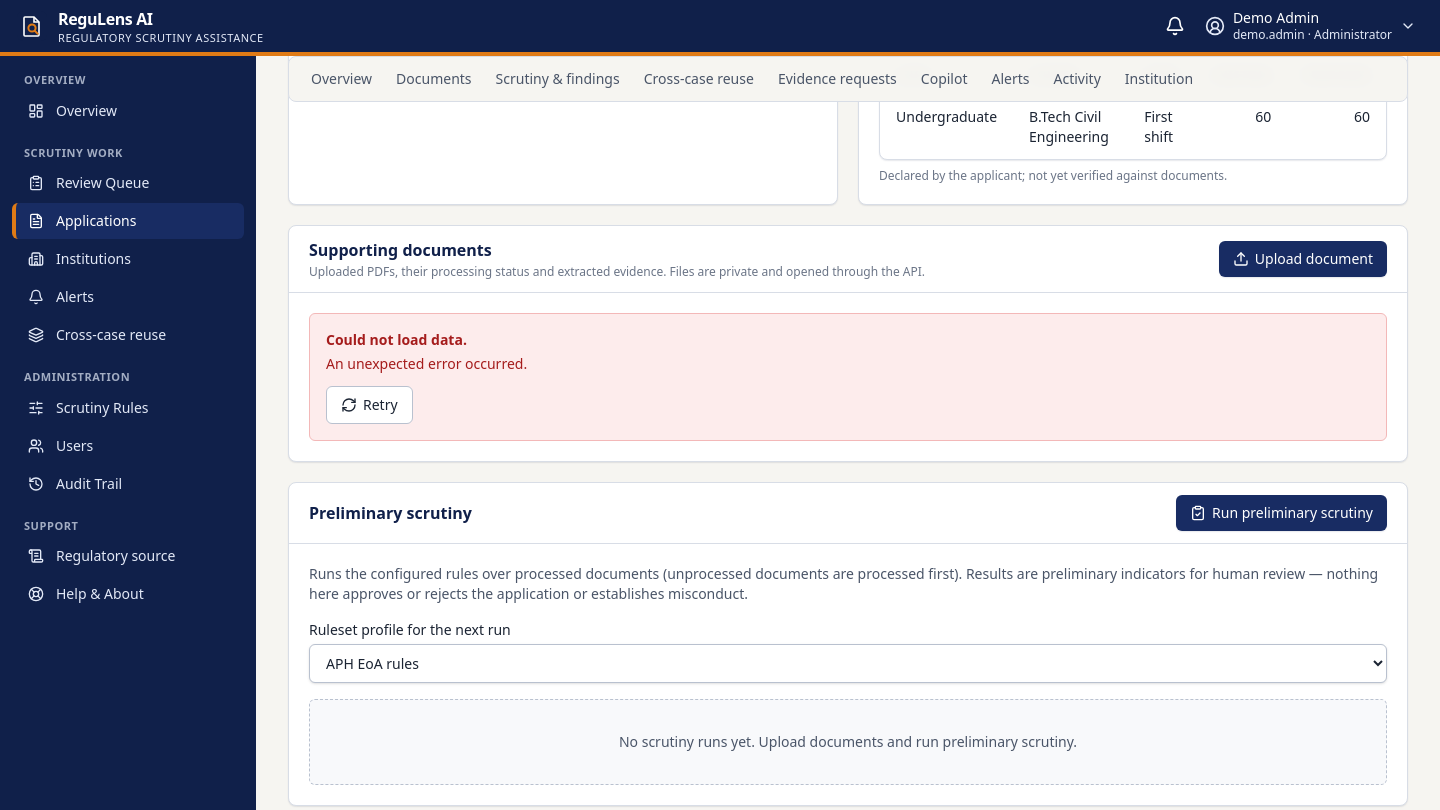
Test: Documents panel › shows an error state with retry
(page scrolled)
Check: the text "An unexpected error occurred." is shown, box [326,354,527,373]
Click the button "Retry" at (369, 405), box [326,386,413,424]
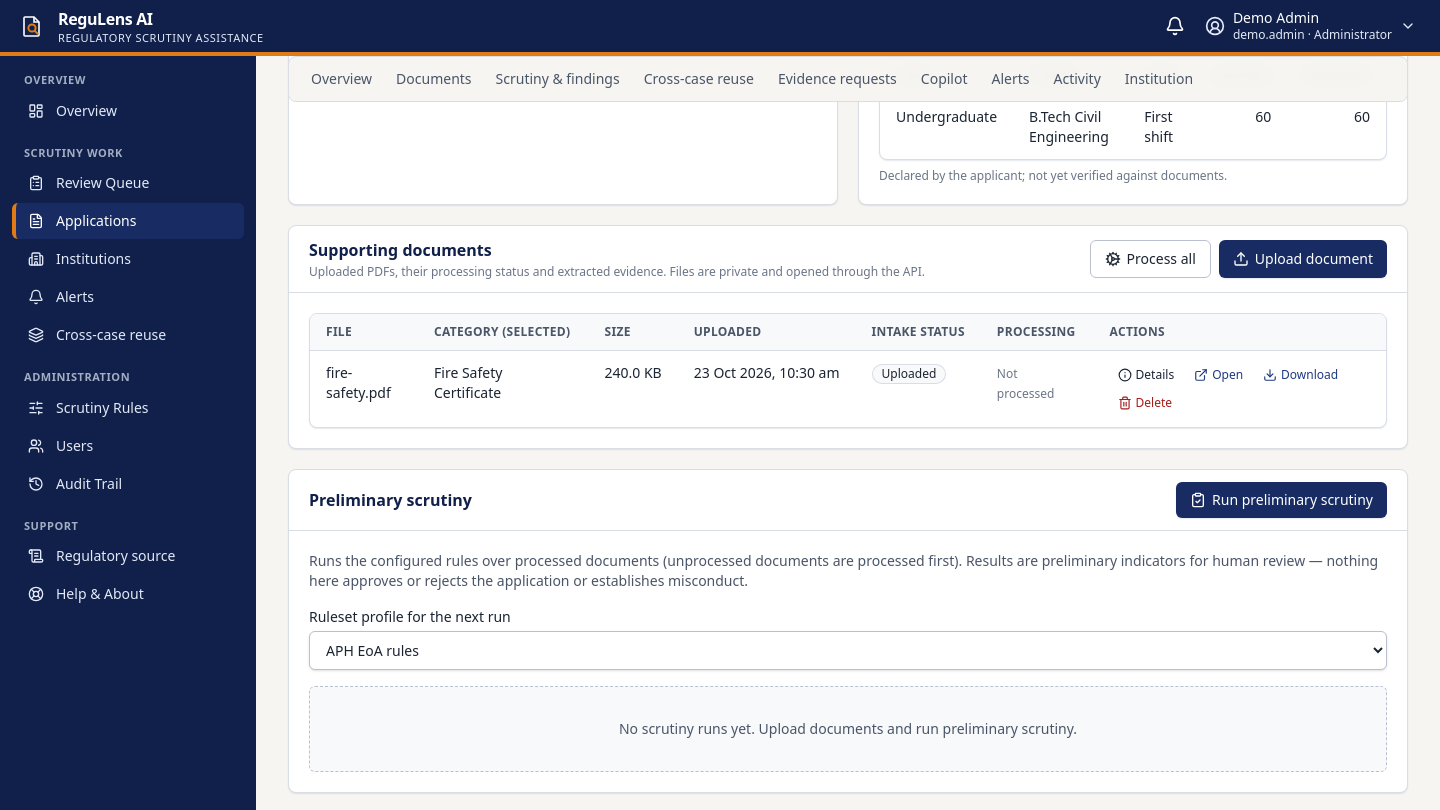
Check: the table named "Documents for REG-EoA-2026-0001" shows "fire-safety.pdf", box [326,363,391,402]
